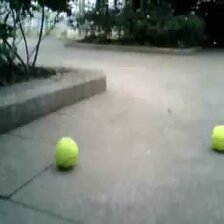tennis: (55, 136, 78, 166), (211, 125, 224, 150)
